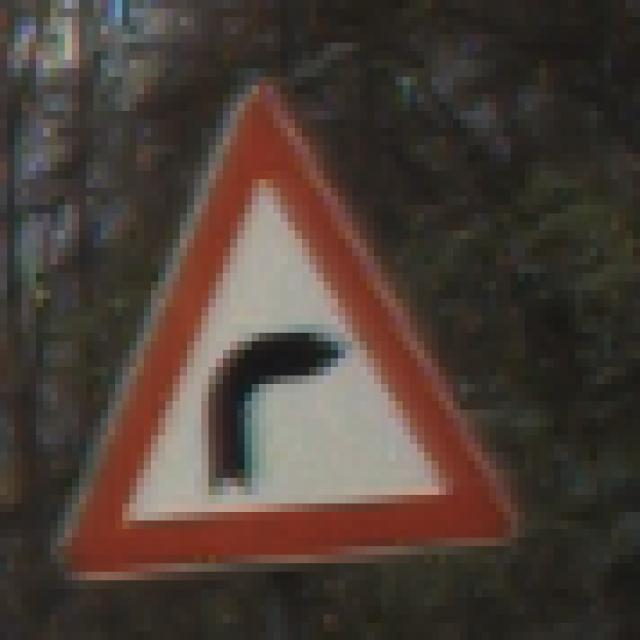right hand curve: (32, 71, 538, 586)
